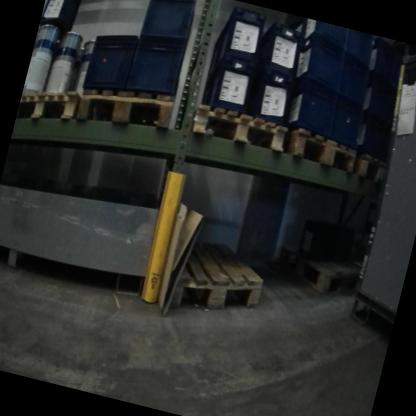pallet: (148, 220, 276, 332), (70, 67, 182, 149), (179, 93, 294, 170), (275, 235, 366, 302), (280, 119, 363, 182), (16, 74, 86, 135), (352, 147, 391, 188)
small_load_carrier: (124, 30, 196, 96), (82, 23, 141, 98), (246, 11, 311, 78), (207, 49, 259, 128), (244, 67, 302, 137), (214, 2, 271, 67), (288, 36, 349, 96), (286, 73, 343, 137), (327, 48, 377, 110), (142, 0, 202, 45), (327, 95, 367, 148), (198, 16, 230, 81), (293, 18, 353, 52), (353, 110, 393, 156), (363, 50, 405, 93), (39, 0, 82, 39), (332, 32, 377, 67), (359, 85, 397, 125), (193, 74, 217, 115)
